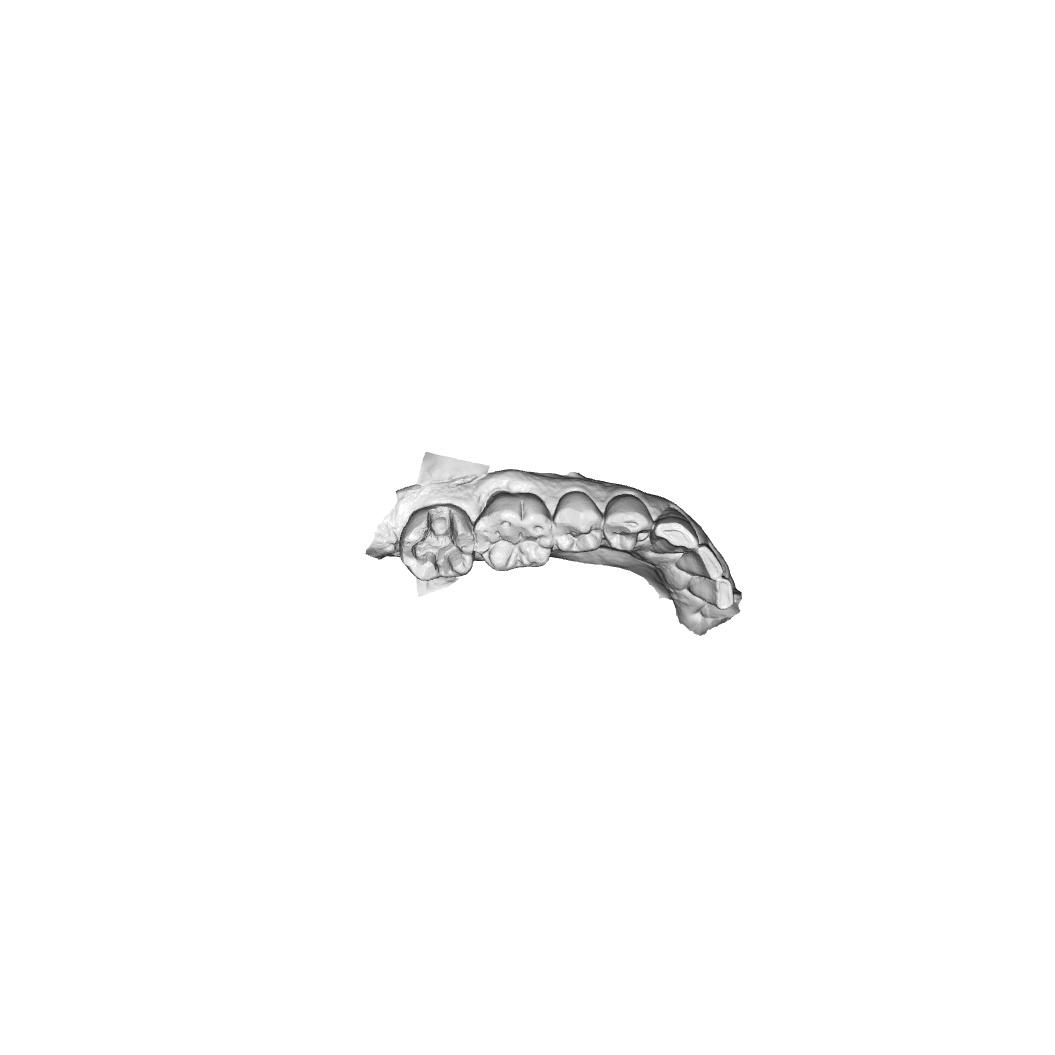canine: (650, 506, 700, 555)
incisor: (675, 542, 724, 581), (687, 573, 734, 611)
inlay: (409, 505, 466, 580)
molar: (473, 491, 553, 572)
premolar: (552, 491, 604, 554), (603, 493, 654, 552)
